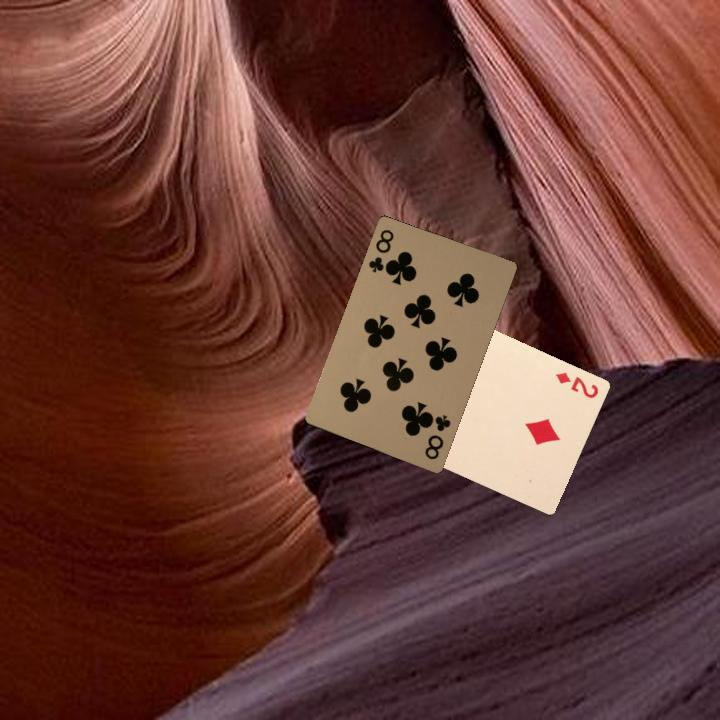2d: (551, 368, 601, 401)
8c: (421, 411, 453, 462), (364, 225, 396, 275)
